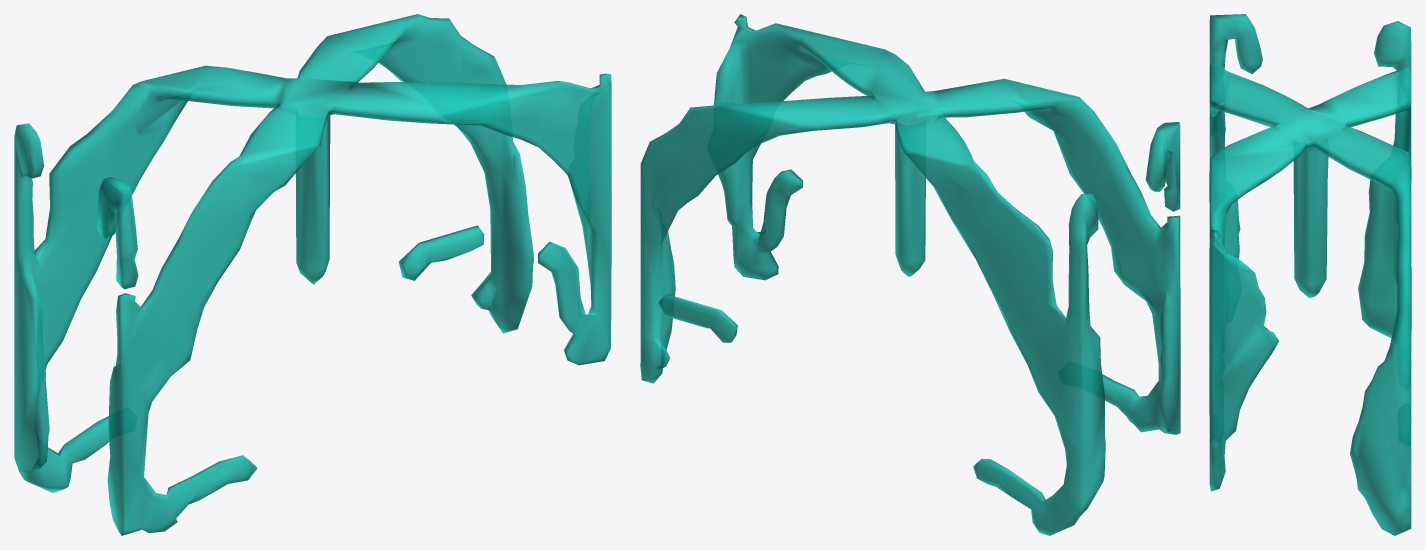
3 views of the same model, side by side, from view 1: azimuth 30°, elevation 25°; view 2: azimuth 150°, elevation 25°; view 3: azimuth 270°, elevation 25° (orthographic). The views are drawn at different scales.
Parts seen in each view (by area): view 1: Liquid_Domain; view 2: Liquid_Domain; view 3: Liquid_Domain.
Boxes of the visible parts, box(x1,y1,x2,y2) form: Liquid_Domain: box(14, 14, 611, 535); Liquid_Domain: box(640, 14, 1180, 535); Liquid_Domain: box(1209, 14, 1411, 535).
Size of the model in its own units: 884 by 683 by 345.
